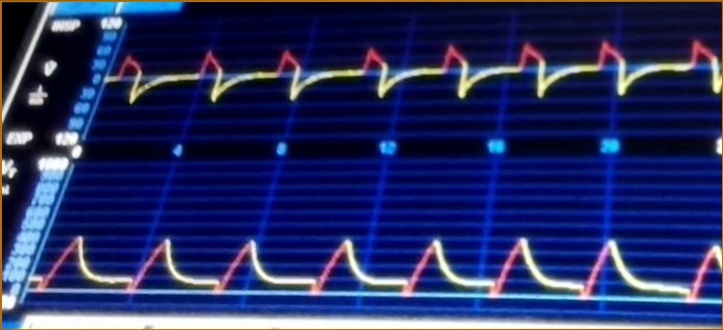Flow: (116, 28, 723, 138)
Leakage Volume: (51, 204, 723, 309)
